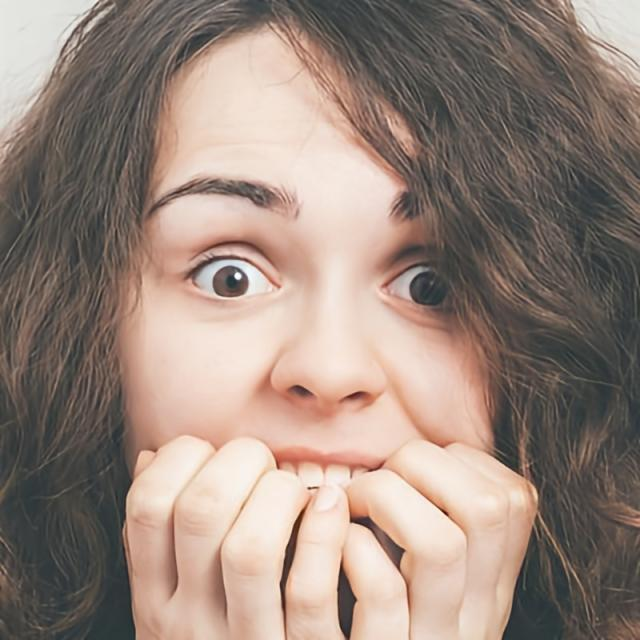fear: (111, 16, 502, 622)
